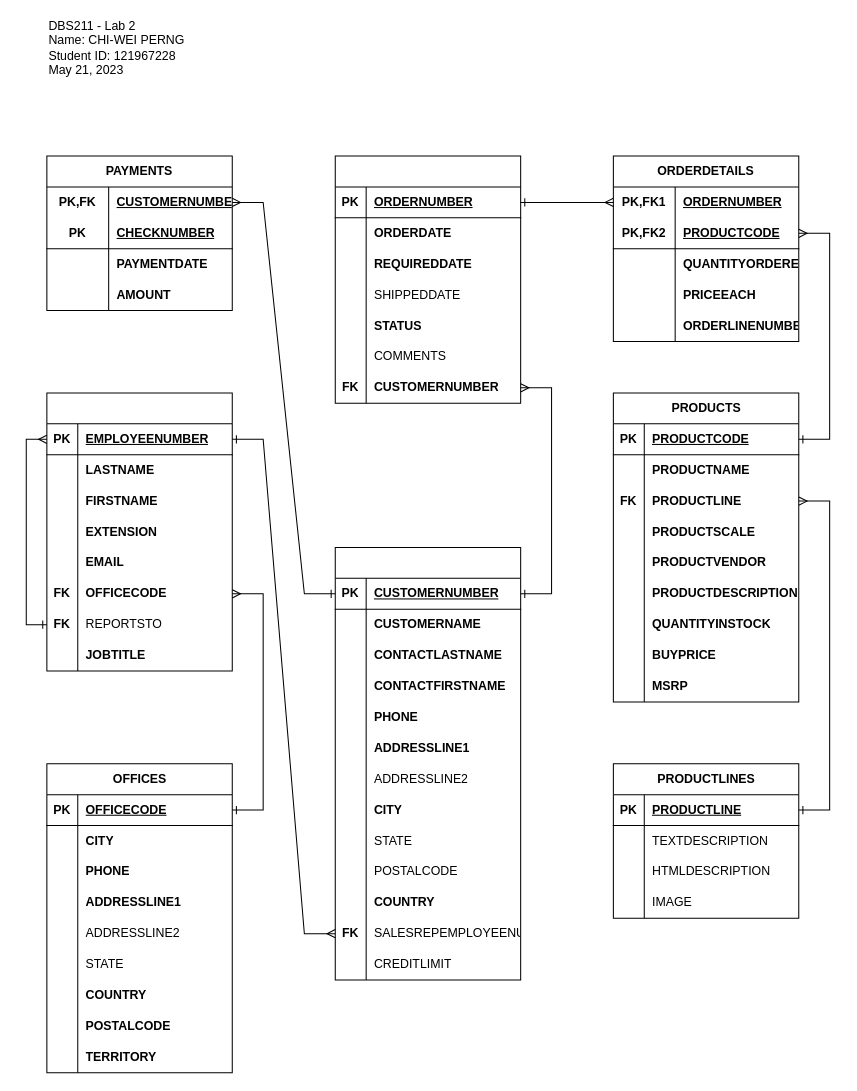
The diagram is 857 pixels wide and 1091 high, and some of its shapes have lost their labels. Each missing label, with the box of its shape:
CUSTOMERS: (334, 546, 521, 980)
EMPLOYEES: (46, 392, 232, 671)
ORDERS: (334, 155, 521, 403)
